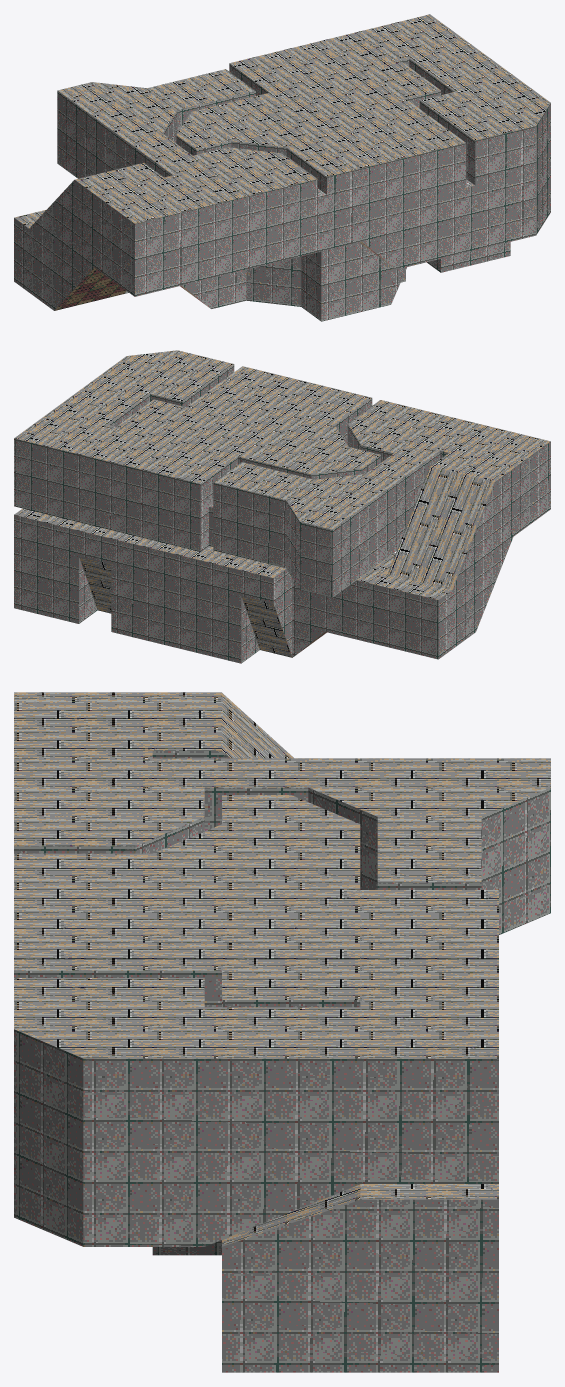
File: level.obj
The picture shows the model from 3 angles, top to bottom: view 1: azimuth 30°, elevation 25°; view 2: azimuth 150°, elevation 25°; view 3: azimuth 270°, elevation 25°; orthographic projection. The views are drawn at different scales.
Parts seen in each view (by area): view 1: Level_Level_wall, Level_Level_ceiling, Level_Level_floor; view 2: Level_Level_wall, Level_Level_ceiling; view 3: Level_Level_ceiling, Level_Level_wall.
Boxes of the visible parts, x1=… form: Level_Level_wall: x1=14, y1=58, x2=550, y2=321; Level_Level_ceiling: x1=14, y1=14, x2=550, y2=228; Level_Level_floor: x1=54, y1=241, x2=393, y2=310; Level_Level_wall: x1=14, y1=364, x2=550, y2=663; Level_Level_ceiling: x1=14, y1=350, x2=550, y2=657; Level_Level_ceiling: x1=14, y1=692, x2=550, y2=1246; Level_Level_wall: x1=14, y1=751, x2=550, y2=1372.
Size of the model in its own units: 15 by 6 by 9.3.
